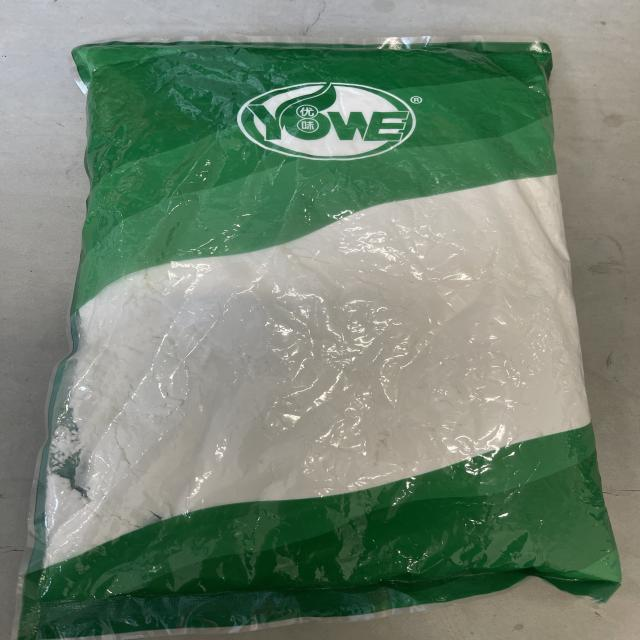object_name: (78, 49, 579, 600)
